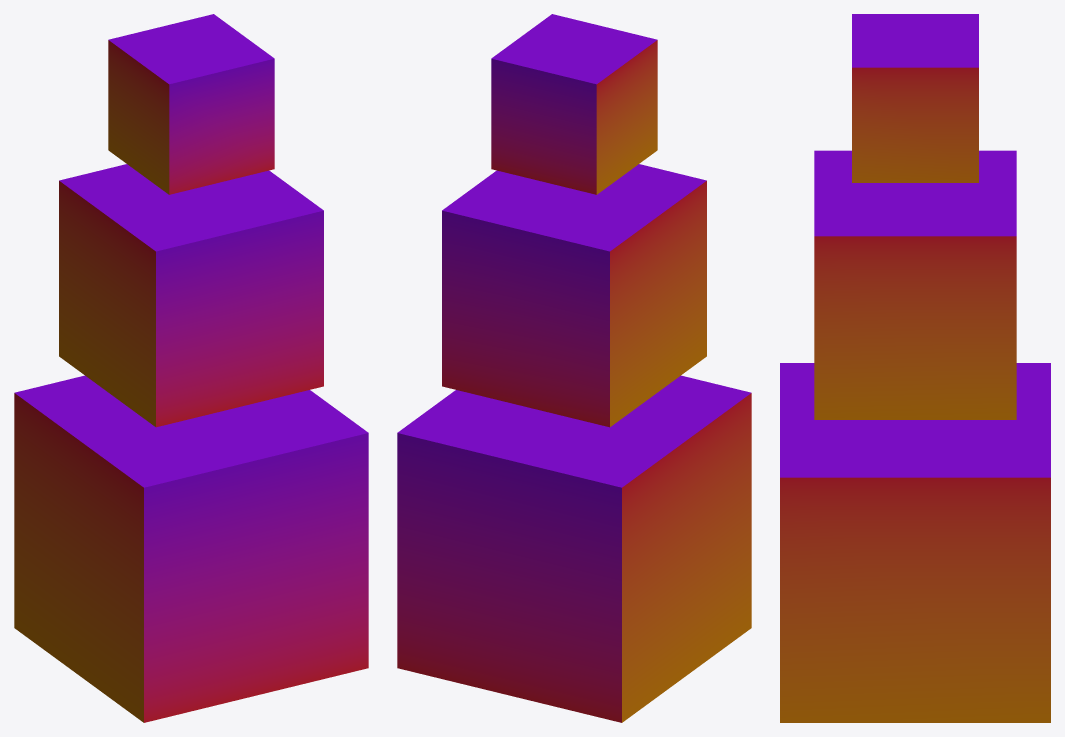
Rendered from vertex_colored_cubes.fbx.
3 views of the same model, side by side, from view 1: azimuth 30°, elevation 25°; view 2: azimuth 150°, elevation 25°; view 3: azimuth 270°, elevation 25° (orthographic). The views are drawn at different scales.
Parts seen in each view (by area): view 1: vertex_test; view 2: vertex_test; view 3: vertex_test.
Part boxes in pixels (left/top/right/bottom): vertex_test: left=14, top=14, right=368, bottom=722; vertex_test: left=397, top=14, right=751, bottom=722; vertex_test: left=780, top=14, right=1050, bottom=722.
Bounding box in the file's own units: 200 × 509 × 200.
